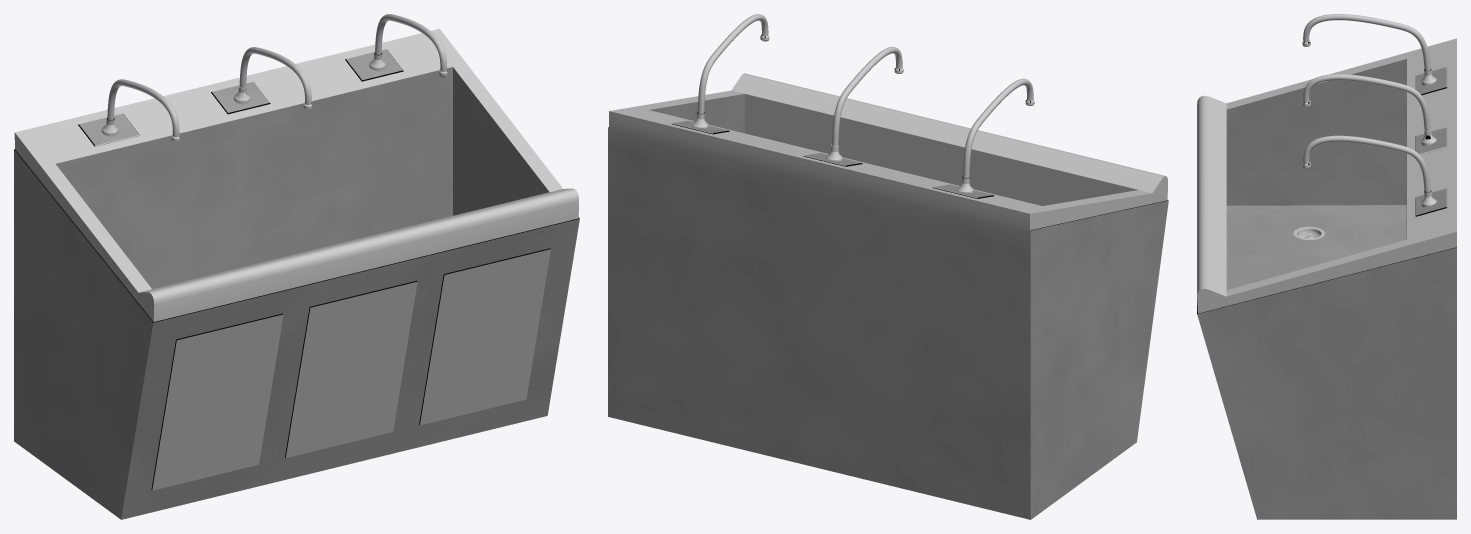
File: OT-sink.glb
3 views of the same model, side by side, from view 1: azimuth 30°, elevation 25°; view 2: azimuth 150°, elevation 25°; view 3: azimuth 270°, elevation 25° (orthographic). The views are drawn at different scales.
Visible parts, largest first — view 1: Sink.001, Tap_1.003, Tap_1.004, Tap_1.005; view 2: Sink.001, Tap_1.005, Tap_1.004, Tap_1.003; view 3: Sink.001, Tap_1.003, Tap_1.004, Tap_1.005, Snk_hole.004.
Part boxes in pixels (bbox=[...]): Sink.001: bbox=[14, 28, 579, 519]; Tap_1.003: bbox=[101, 79, 180, 141]; Tap_1.004: bbox=[233, 47, 312, 109]; Tap_1.005: bbox=[369, 14, 447, 76]; Sink.001: bbox=[608, 73, 1168, 519]; Tap_1.005: bbox=[692, 14, 769, 128]; Tap_1.004: bbox=[826, 46, 903, 160]; Tap_1.003: bbox=[957, 78, 1034, 192]; Sink.001: bbox=[1197, 38, 1456, 519]; Tap_1.003: bbox=[1302, 14, 1436, 85]; Tap_1.004: bbox=[1302, 74, 1436, 145]; Tap_1.005: bbox=[1302, 135, 1436, 207]; Snk_hole.004: bbox=[1293, 226, 1324, 240].
Bounding box in the file's own units: 1.59 × 1.34 × 0.902.
Materials: 1 (1 with a texture image).
